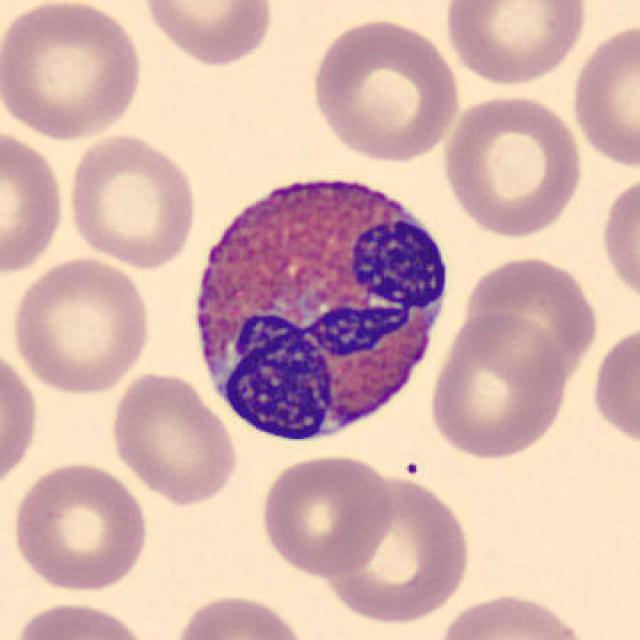Eosinophil: (178, 155, 460, 455)
RBC: (316, 469, 474, 626), (306, 14, 464, 164), (425, 308, 572, 462), (437, 90, 587, 240), (7, 254, 155, 397), (0, 0, 148, 143), (62, 128, 201, 272), (459, 250, 601, 388), (9, 458, 151, 594), (107, 368, 240, 508), (256, 450, 396, 578), (441, 0, 590, 88), (567, 18, 638, 169), (0, 125, 68, 279), (137, 0, 277, 69), (432, 589, 597, 640), (171, 589, 309, 640), (588, 319, 638, 453), (7, 597, 154, 640), (0, 344, 41, 497), (598, 168, 638, 310)
